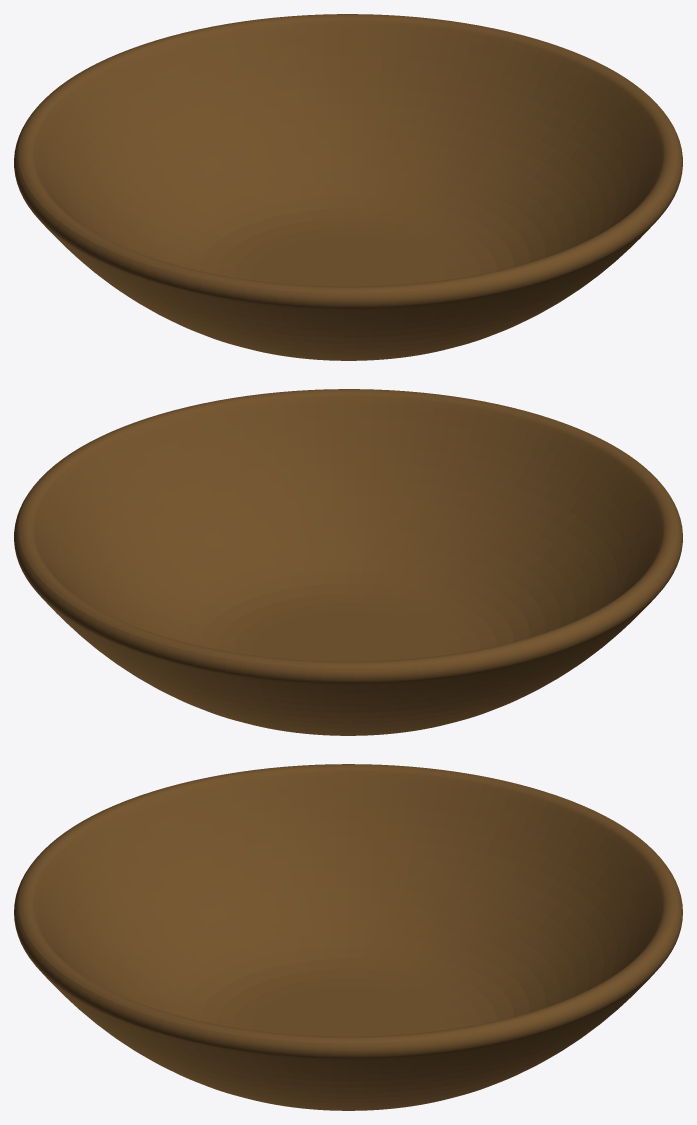
Rendered from bowl.fbx.
3 renders of one model, top to bottom at view 1: azimuth 30°, elevation 25°; view 2: azimuth 150°, elevation 25°; view 3: azimuth 270°, elevation 25°, orthographic.
Visible parts, largest first — view 1: Sphere; view 2: Sphere; view 3: Sphere.
Boxes of the visible parts, left/top/right/bottom form: Sphere: left=14, top=14, right=682, bottom=360; Sphere: left=14, top=389, right=682, bottom=735; Sphere: left=14, top=764, right=682, bottom=1110.
Size of the model in its own units: 163 by 39.64 by 163.
